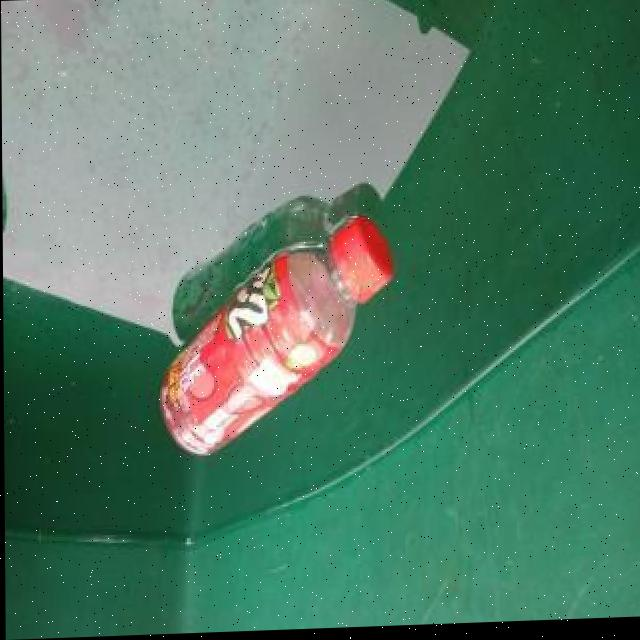bottle: (156, 214, 392, 458)
